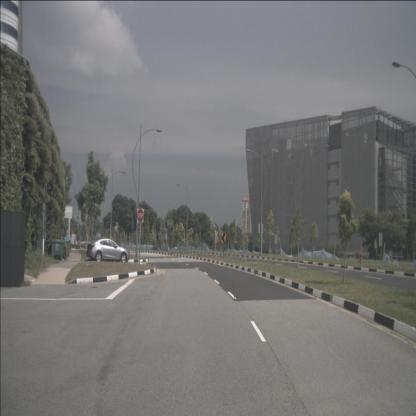vehicle-car: (87, 238, 130, 263)
